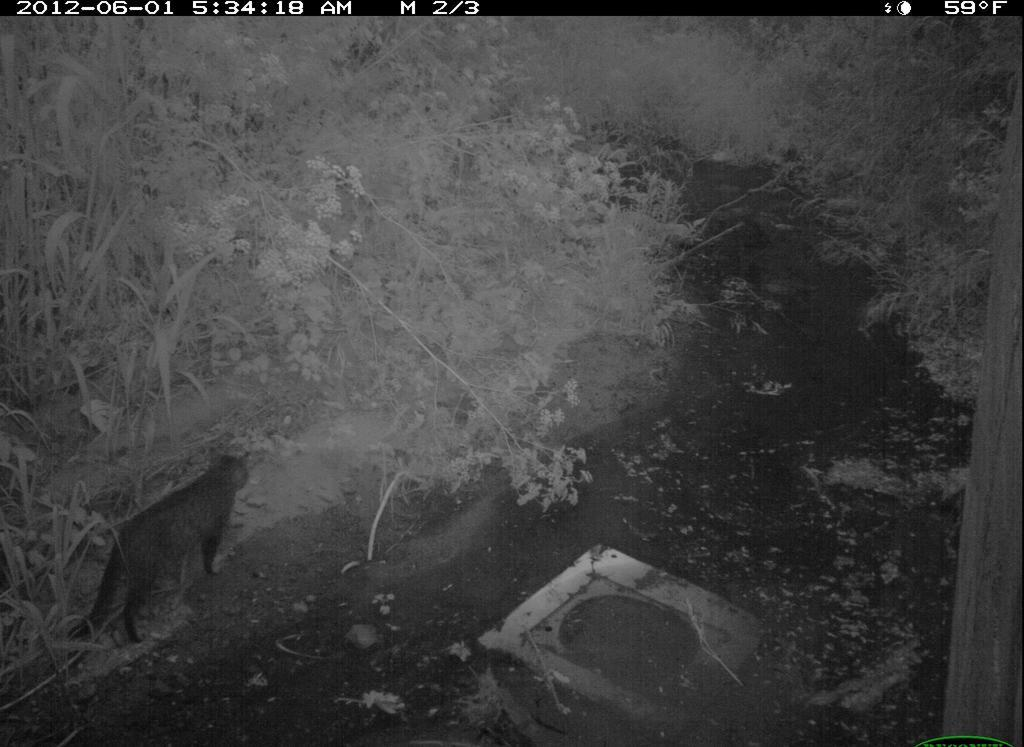cat: (80, 442, 267, 649)
